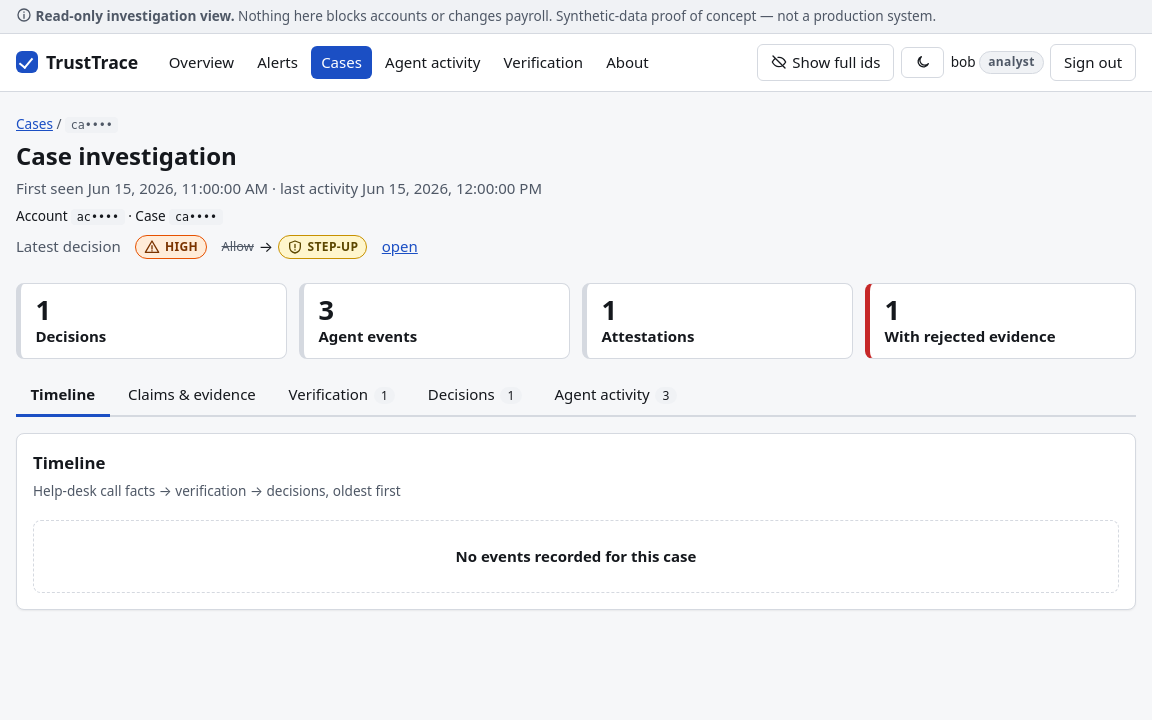
Test case: case page › claims, observations, authentic evidence and rejected records are separated into distinct groups
This screenshot has width=1152, height=720.
Expected: the heading "Case investigation" is shown, [16, 139, 237, 172]
Click the tab "Claims & evidence": point(192, 396) [114, 375, 270, 417]
(page scrolled)
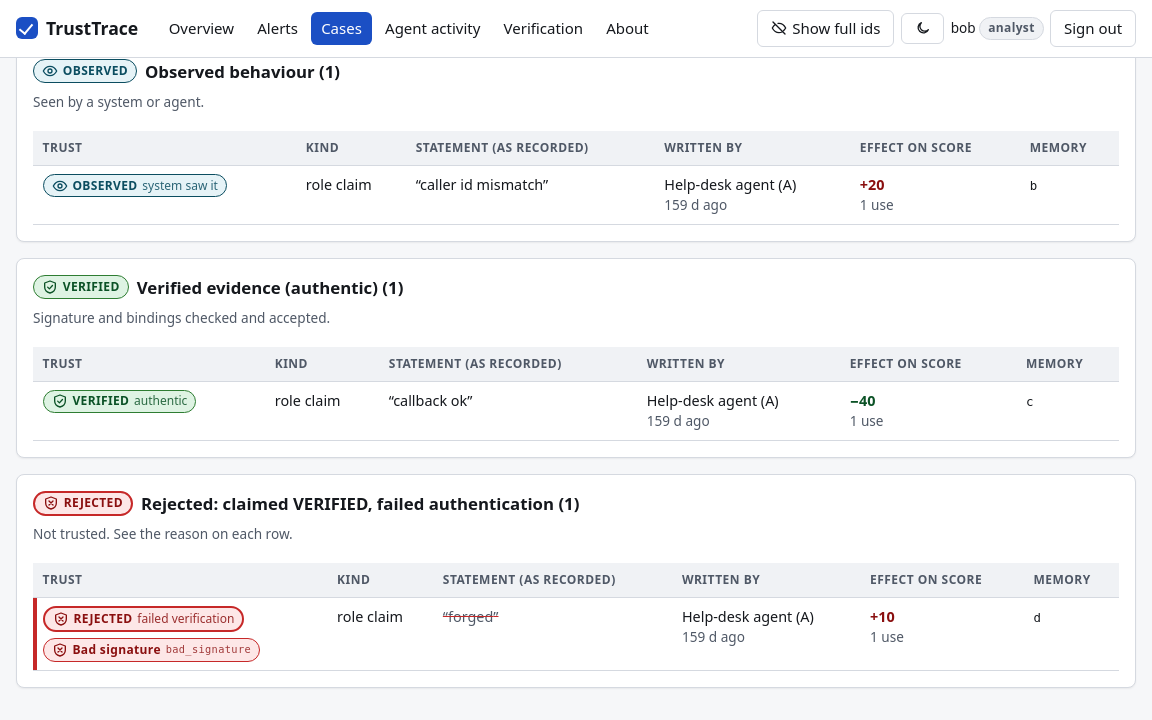
Now the text "Rejected: claimed VERIFIED, failed authentication" is shown, box [141, 492, 554, 515]
